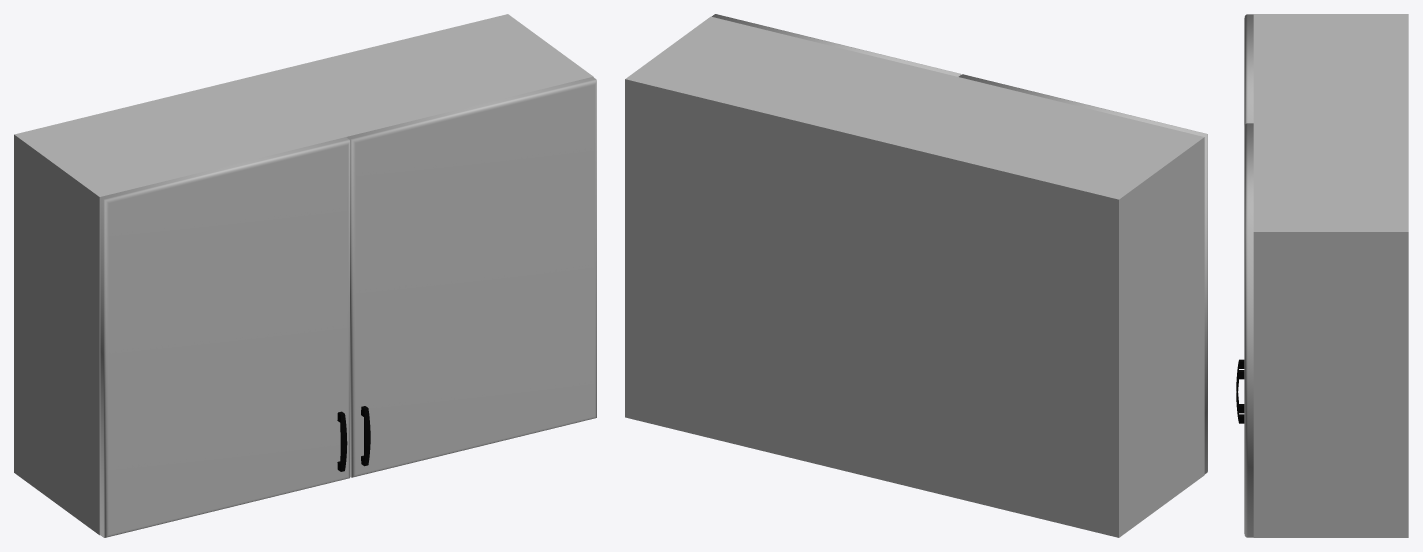
The picture shows the model from 3 angles, left to right: view 1: azimuth 30°, elevation 25°; view 2: azimuth 150°, elevation 25°; view 3: azimuth 270°, elevation 25°; orthographic projection. The views are drawn at different scales.
Parts seen in each view (by area): view 1: Box011, Box012, Box001; view 2: Box001, Box011, Box012; view 3: Box001, Box012, Box011.
Boxes of the visible parts, x1,y1,x2,y2 form: Box011: (100,137,349,537); Box012: (347,77,596,477); Box001: (14,14,593,535); Box001: (625,16,1204,537); Box011: (958,74,1207,474); Box012: (711,14,960,76); Box001: (1253,14,1408,537); Box012: (1244,123,1253,537); Box011: (1244,14,1253,126).
Bounding box in the file's own units: 1.1 × 0.72 × 0.3671.
Materials: 2 (1 with a texture image).
